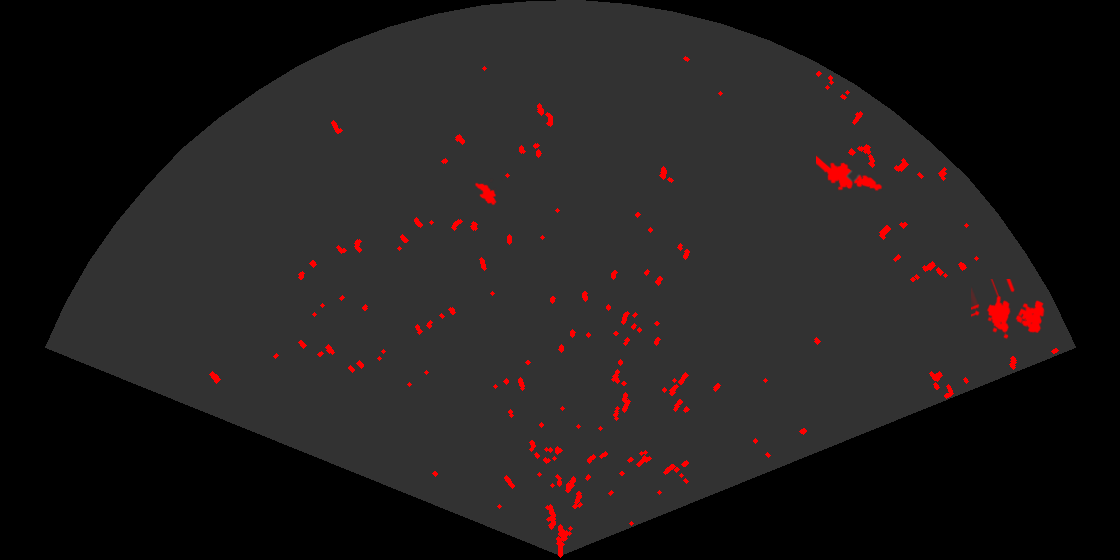AUV: (473, 176, 504, 207)
cage: (971, 279, 1046, 341)
frogman: (816, 154, 884, 193)
